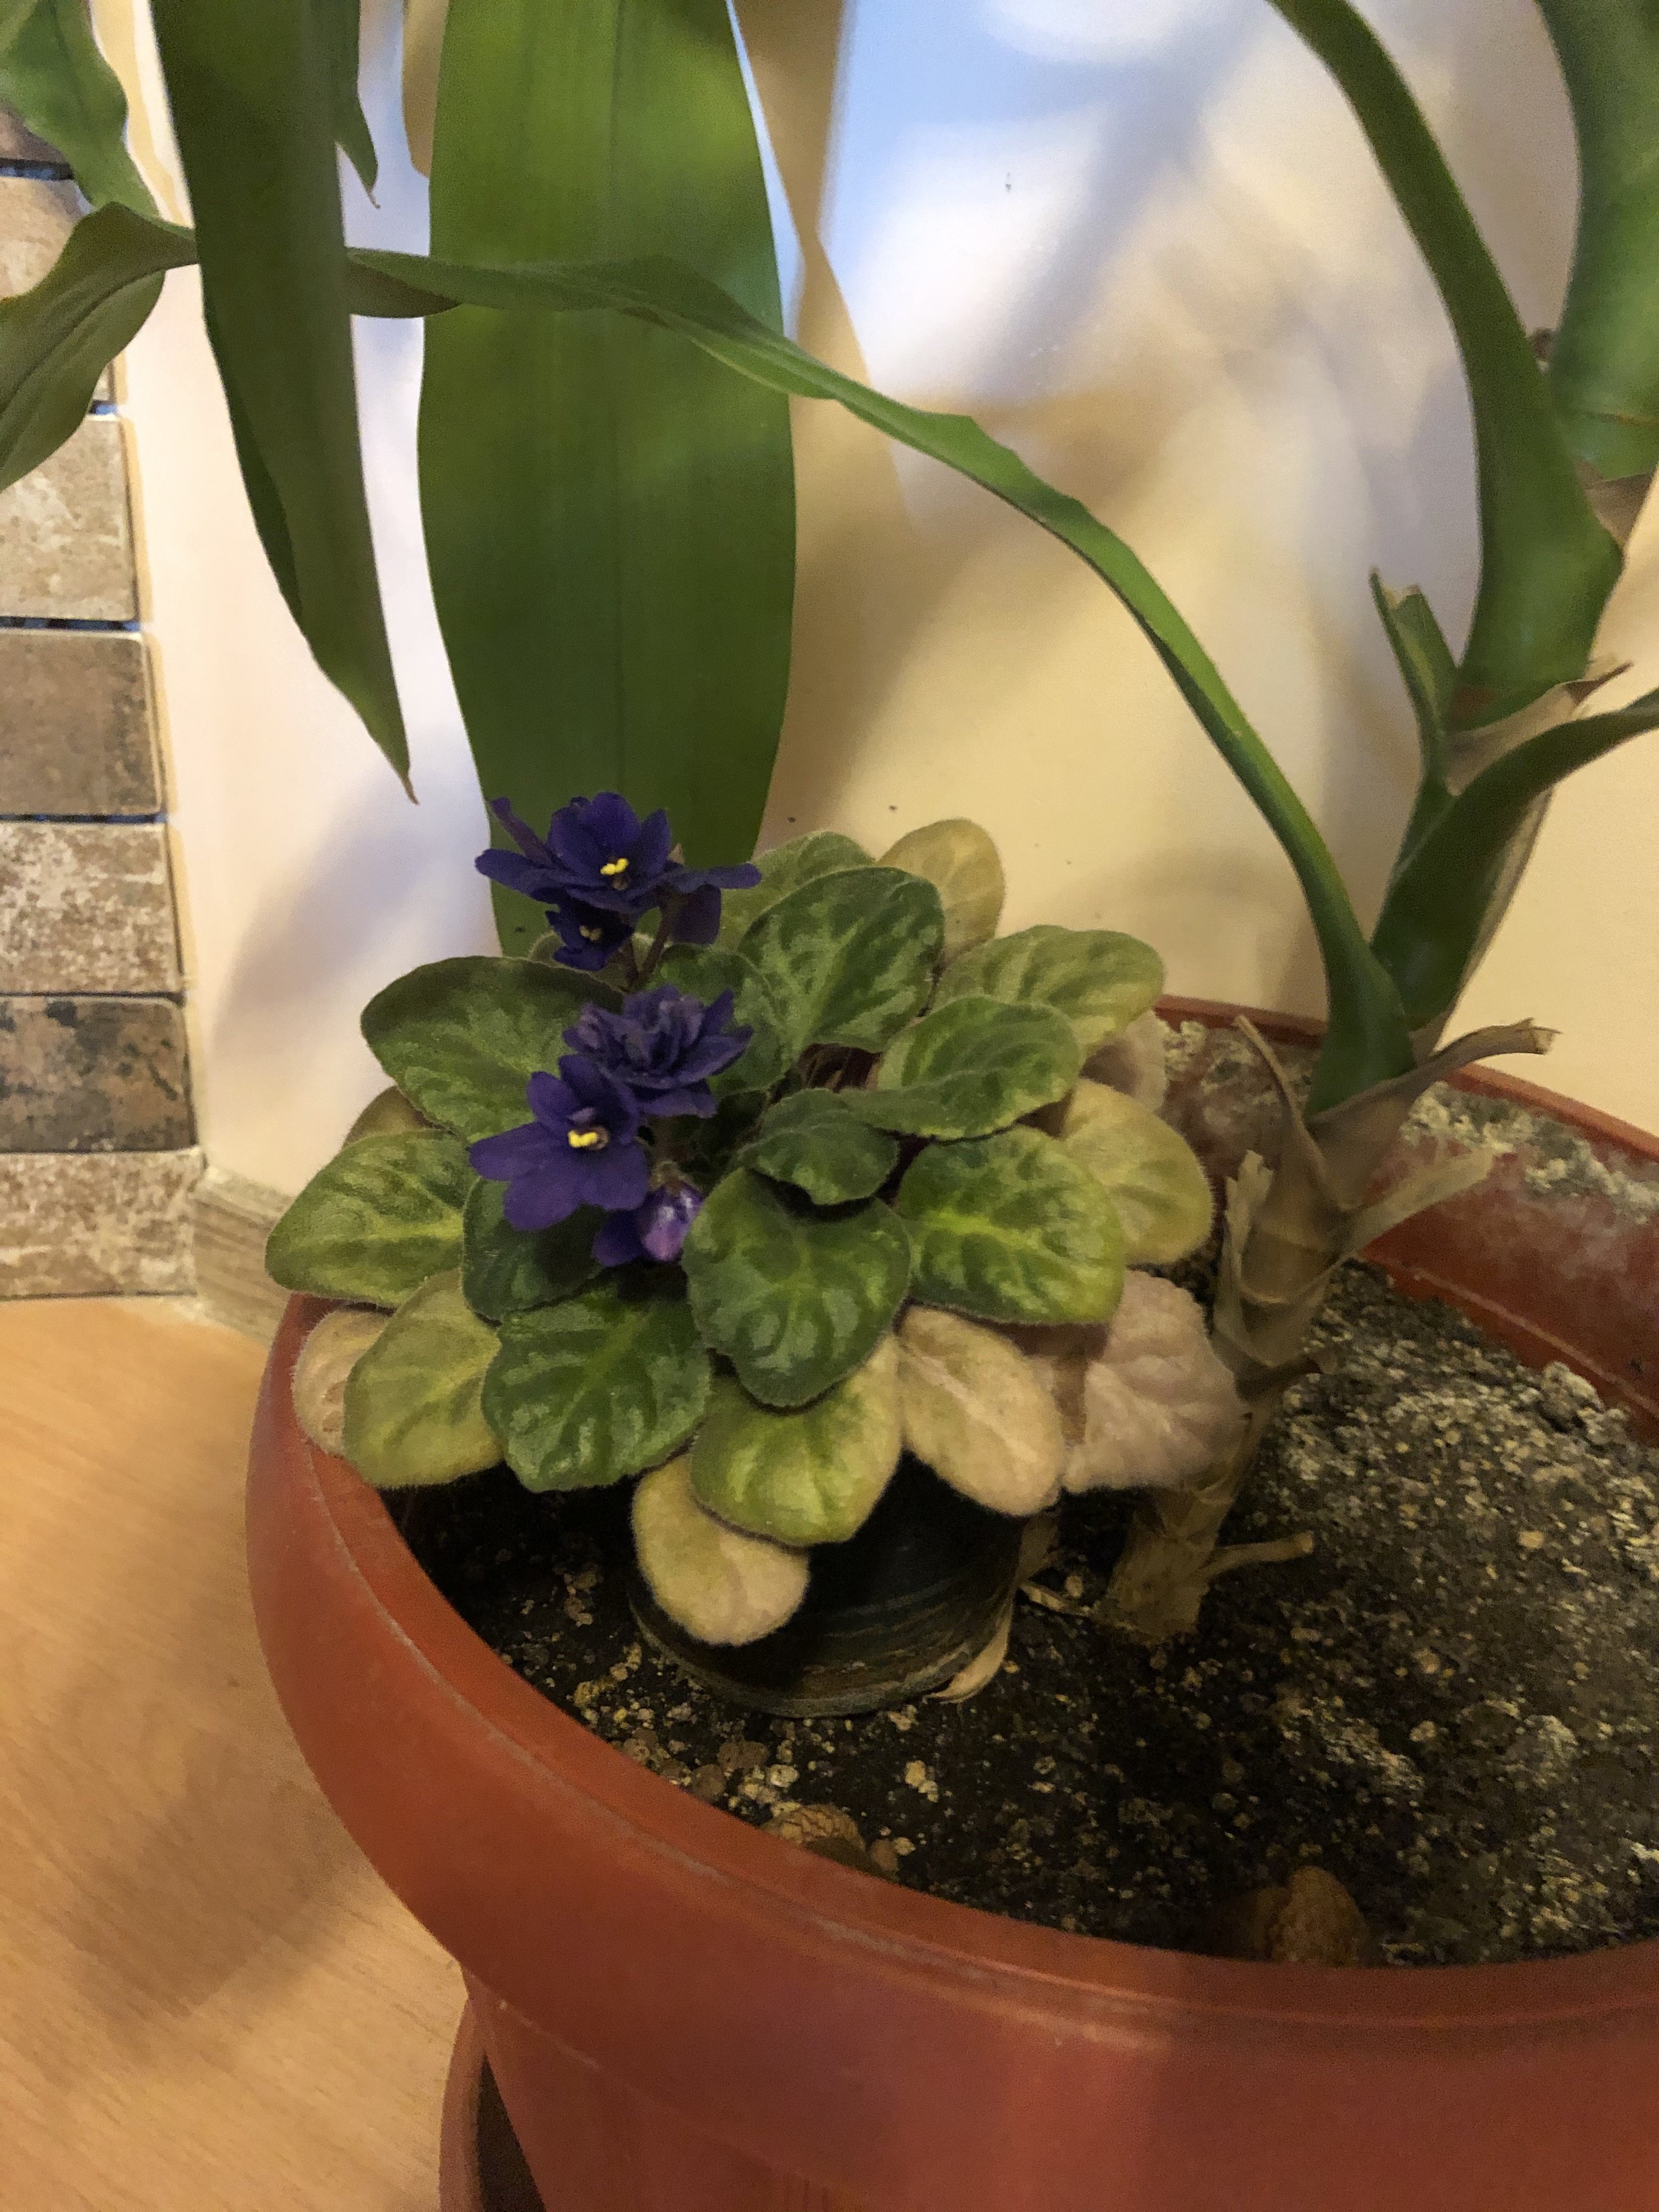ignore: (319, 779, 1251, 1543)
